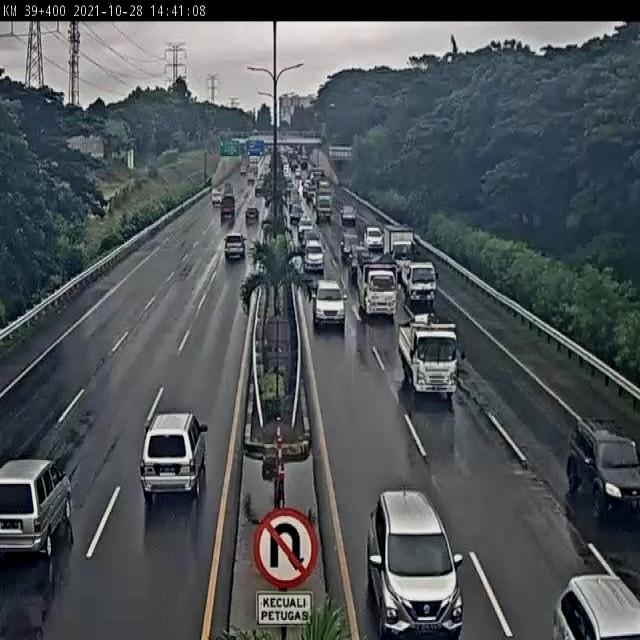Car: (368, 479, 463, 630), (567, 417, 640, 520), (1, 458, 74, 558), (140, 409, 209, 498), (552, 572, 640, 636), (312, 278, 346, 330), (303, 241, 325, 275), (224, 234, 246, 262), (363, 226, 385, 254), (341, 205, 357, 226)
Truck: (399, 310, 472, 405), (360, 266, 408, 322), (405, 258, 445, 314)
